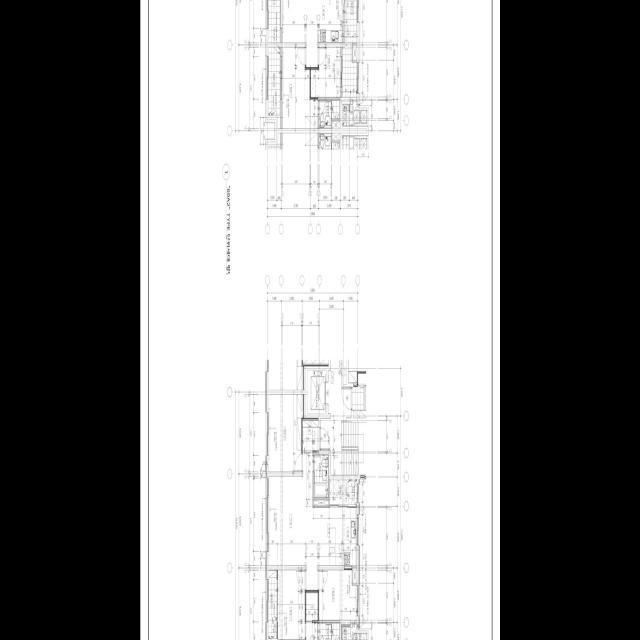background: (140, 0, 500, 640)
space_balconi: (342, 0, 356, 97), (268, 47, 280, 128), (329, 479, 356, 505), (268, 570, 276, 639), (268, 0, 280, 43), (342, 628, 367, 640)
space_bedroom: (282, 47, 317, 128), (278, 570, 317, 640), (268, 395, 303, 472), (319, 570, 356, 620), (311, 47, 340, 97)
space_elevator: (307, 370, 326, 414)
space_elevator_hall: (320, 360, 351, 475)
space_front: (302, 421, 318, 455)
space_kitchen: (317, 508, 356, 566), (317, 8, 342, 43)
space_living_room: (268, 455, 318, 590), (282, 0, 342, 67)
space_other: (349, 102, 367, 126), (342, 105, 348, 126), (313, 500, 328, 505), (343, 360, 346, 384), (353, 45, 357, 60), (353, 568, 357, 583), (332, 133, 339, 140), (332, 122, 339, 129)
space_staircase: (341, 420, 366, 475)
space_toilet: (314, 455, 328, 498), (319, 100, 339, 128), (319, 623, 339, 640)
